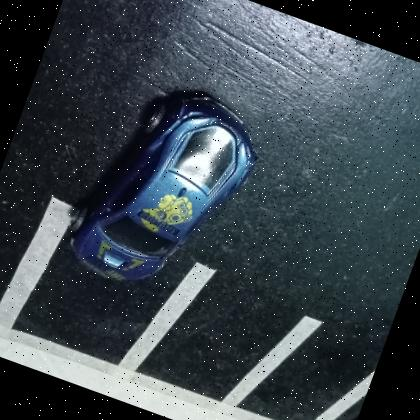Car: (55, 64, 273, 314)
